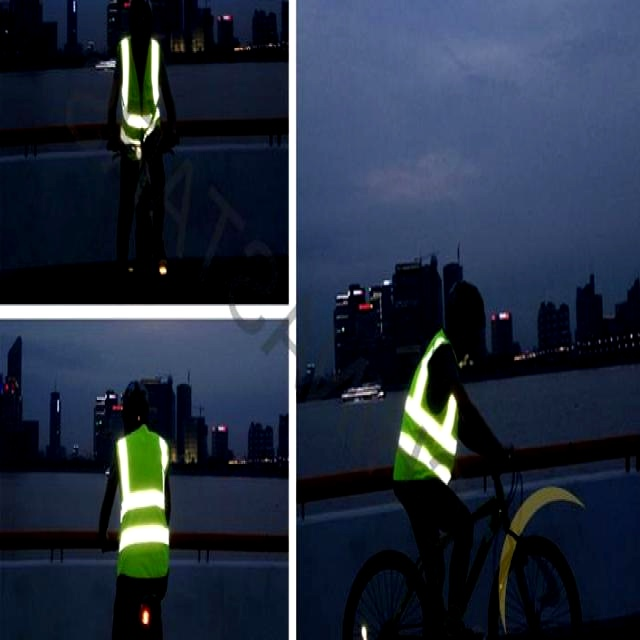Con_Chaleco: (390, 336, 467, 482), (111, 427, 173, 577), (116, 35, 163, 157)
